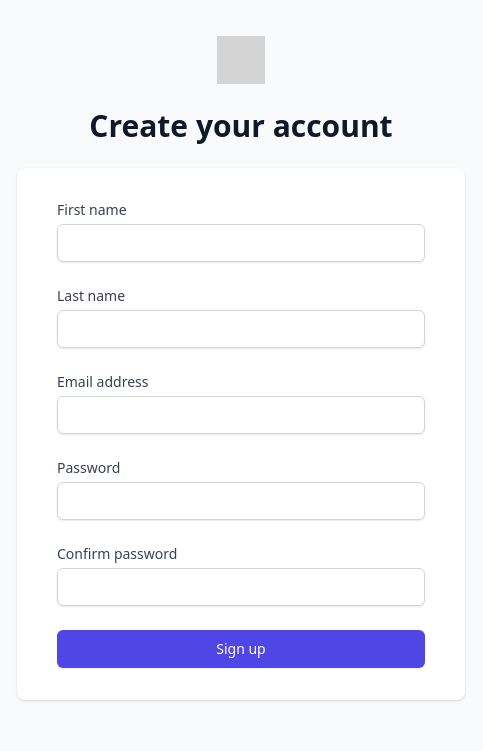
Test: error states › if user submits form with invalid email address
This screenshot has width=483, height=751.
Type "daniel" into the field labelled "Email address" at (241, 415), box [57,396,425,434]
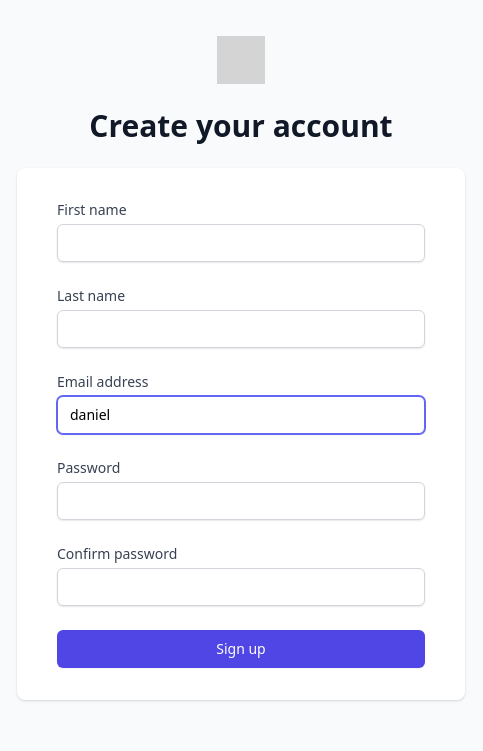
Click the button "Sign up" at (241, 649), box [57,630,425,668]
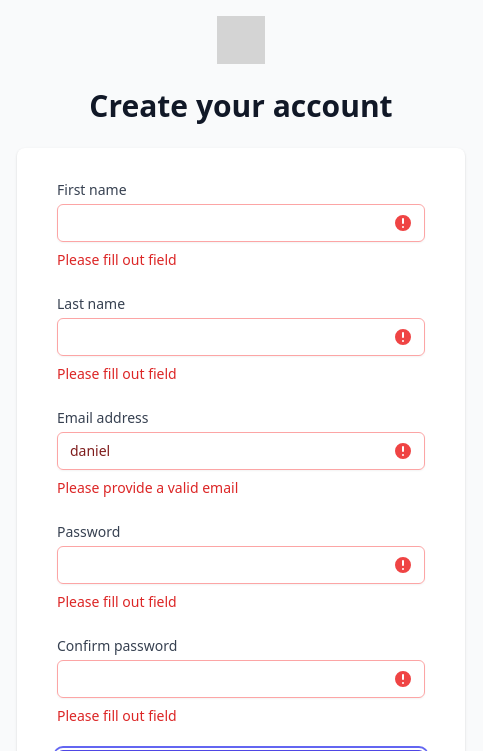
Check: the text "Please provide a valid email" is shown, box [57,478,238,497]
